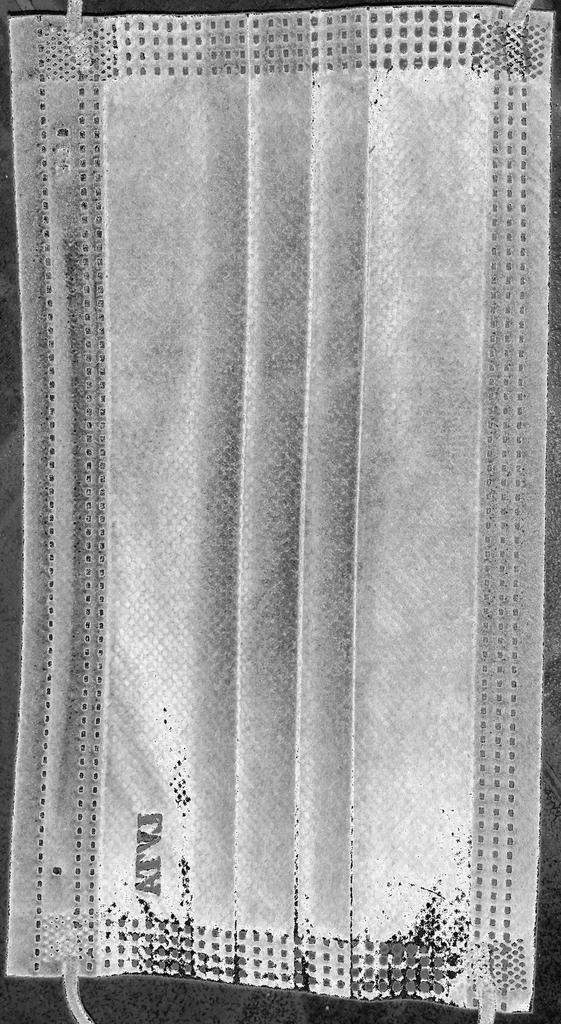High GSM: (6, 4, 553, 1016)
